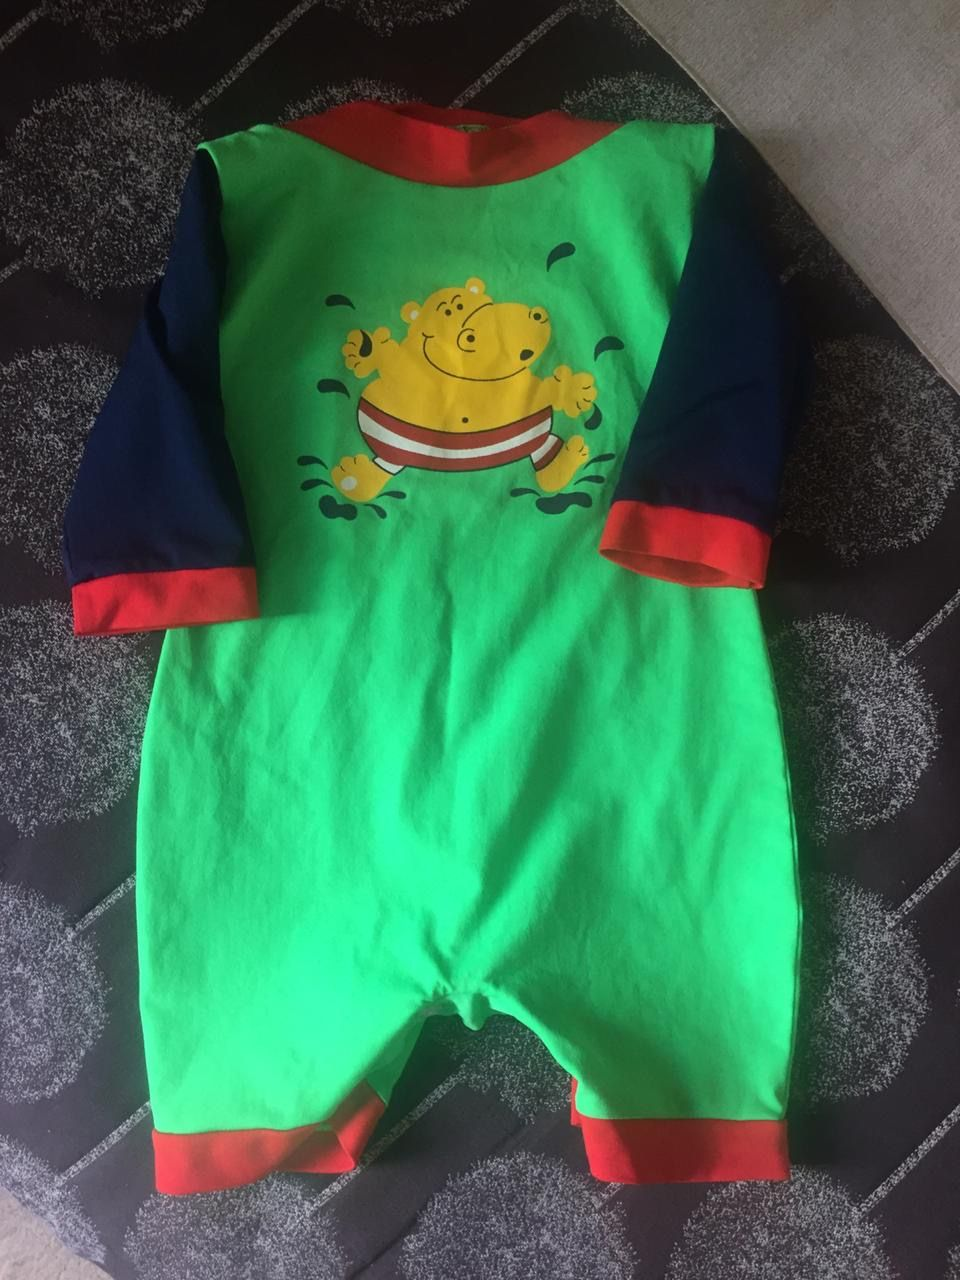clothes: (85, 83, 839, 1200)
